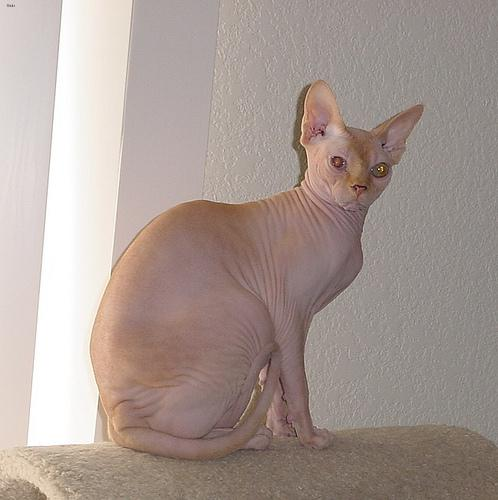cat: (298, 78, 422, 210)
